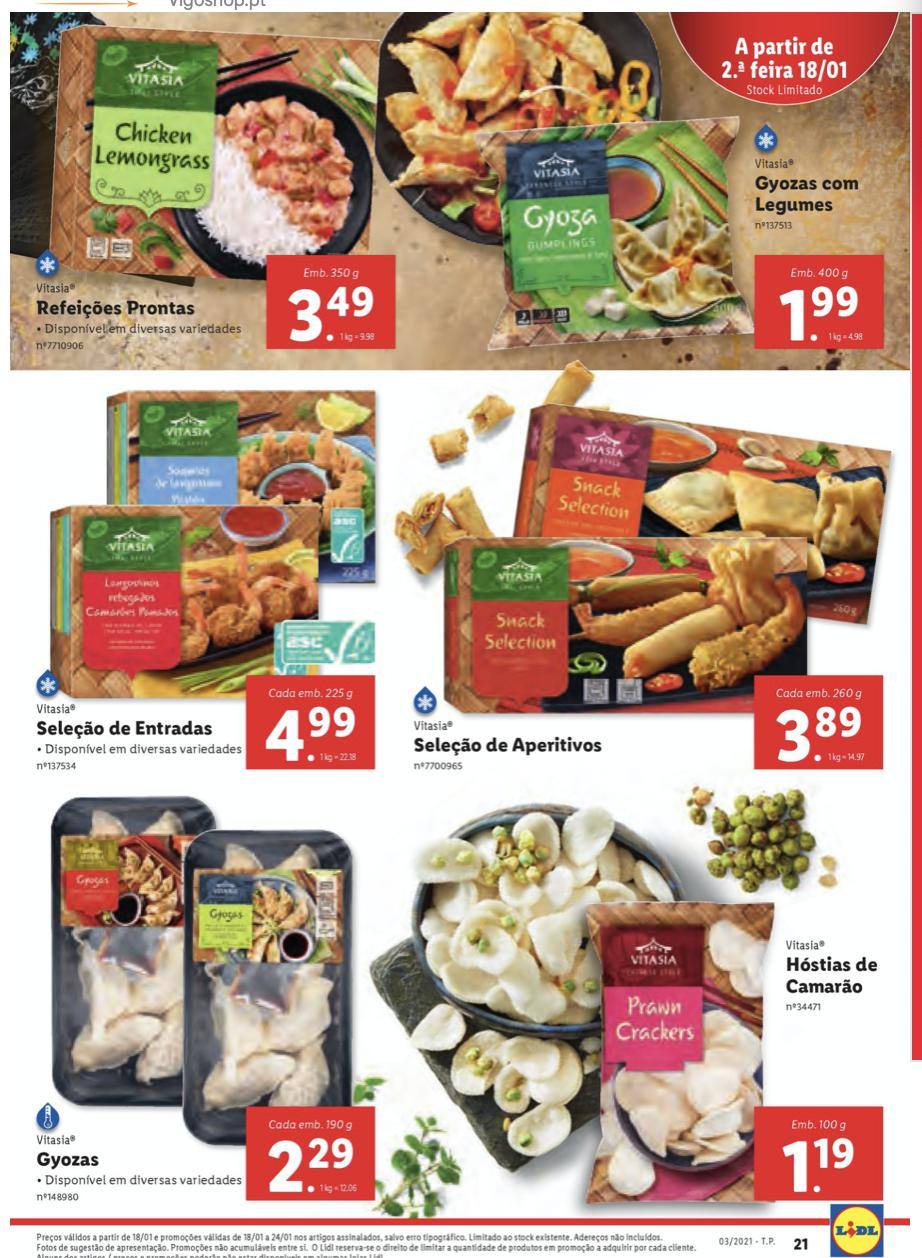name: (411, 730, 607, 764), (29, 714, 220, 744), (748, 170, 870, 214), (782, 950, 886, 1001), (31, 295, 200, 323), (34, 1148, 101, 1173)
price: (278, 273, 396, 353), (257, 701, 368, 770), (767, 700, 876, 769), (775, 284, 882, 347), (268, 1133, 367, 1201), (779, 1134, 861, 1200)
product: (409, 786, 906, 1217), (411, 383, 906, 786), (23, 787, 393, 1215), (23, 384, 389, 769), (28, 28, 401, 370), (470, 108, 890, 358)
